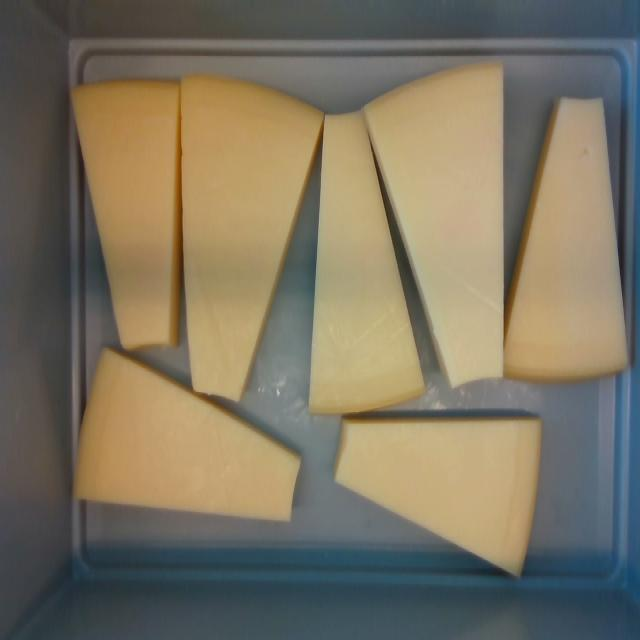Cheese: (182, 76, 323, 402), (362, 63, 502, 387), (499, 96, 628, 382), (76, 352, 298, 517), (309, 112, 424, 413), (336, 420, 539, 572), (71, 82, 178, 348)
